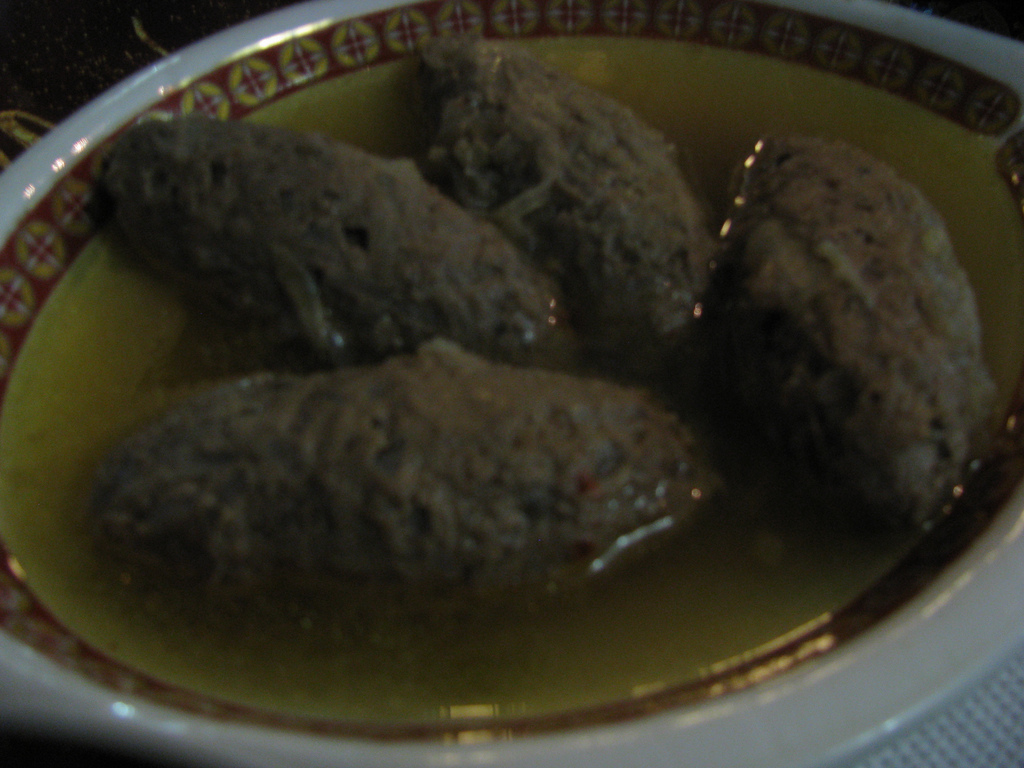meatballs: (123, 384, 676, 586), (723, 140, 994, 509), (121, 119, 542, 344), (438, 52, 715, 342)
